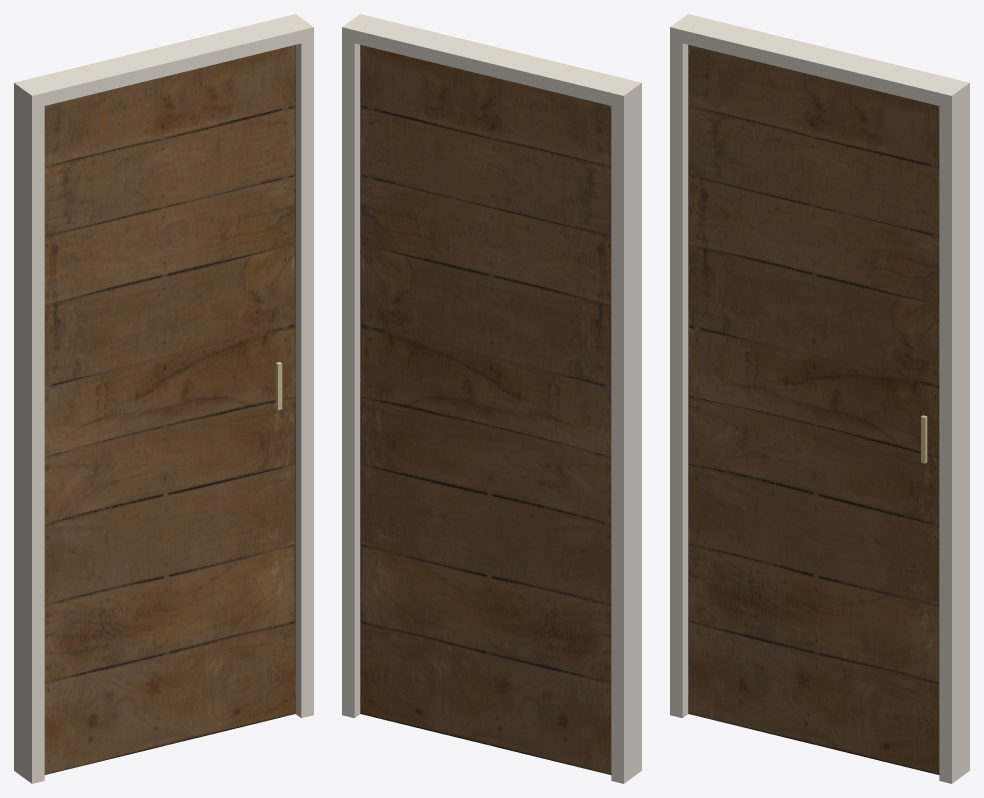
The model's file is porta_90.glb.
The picture shows the model from 3 angles, left to right: view 1: azimuth 30°, elevation 25°; view 2: azimuth 150°, elevation 25°; view 3: azimuth 330°, elevation 25°; orthographic projection.
Visible parts, largest first — view 1: porta_90; view 2: porta_90; view 3: porta_90.
Part boxes in pixels (left/top/right/bottom): porta_90: left=14, top=14, right=313, bottom=783; porta_90: left=342, top=14, right=641, bottom=783; porta_90: left=670, top=14, right=969, bottom=783.
Size of the model in its own units: 0.9 by 2.1 by 0.1.
3 materials, 1 textured.
